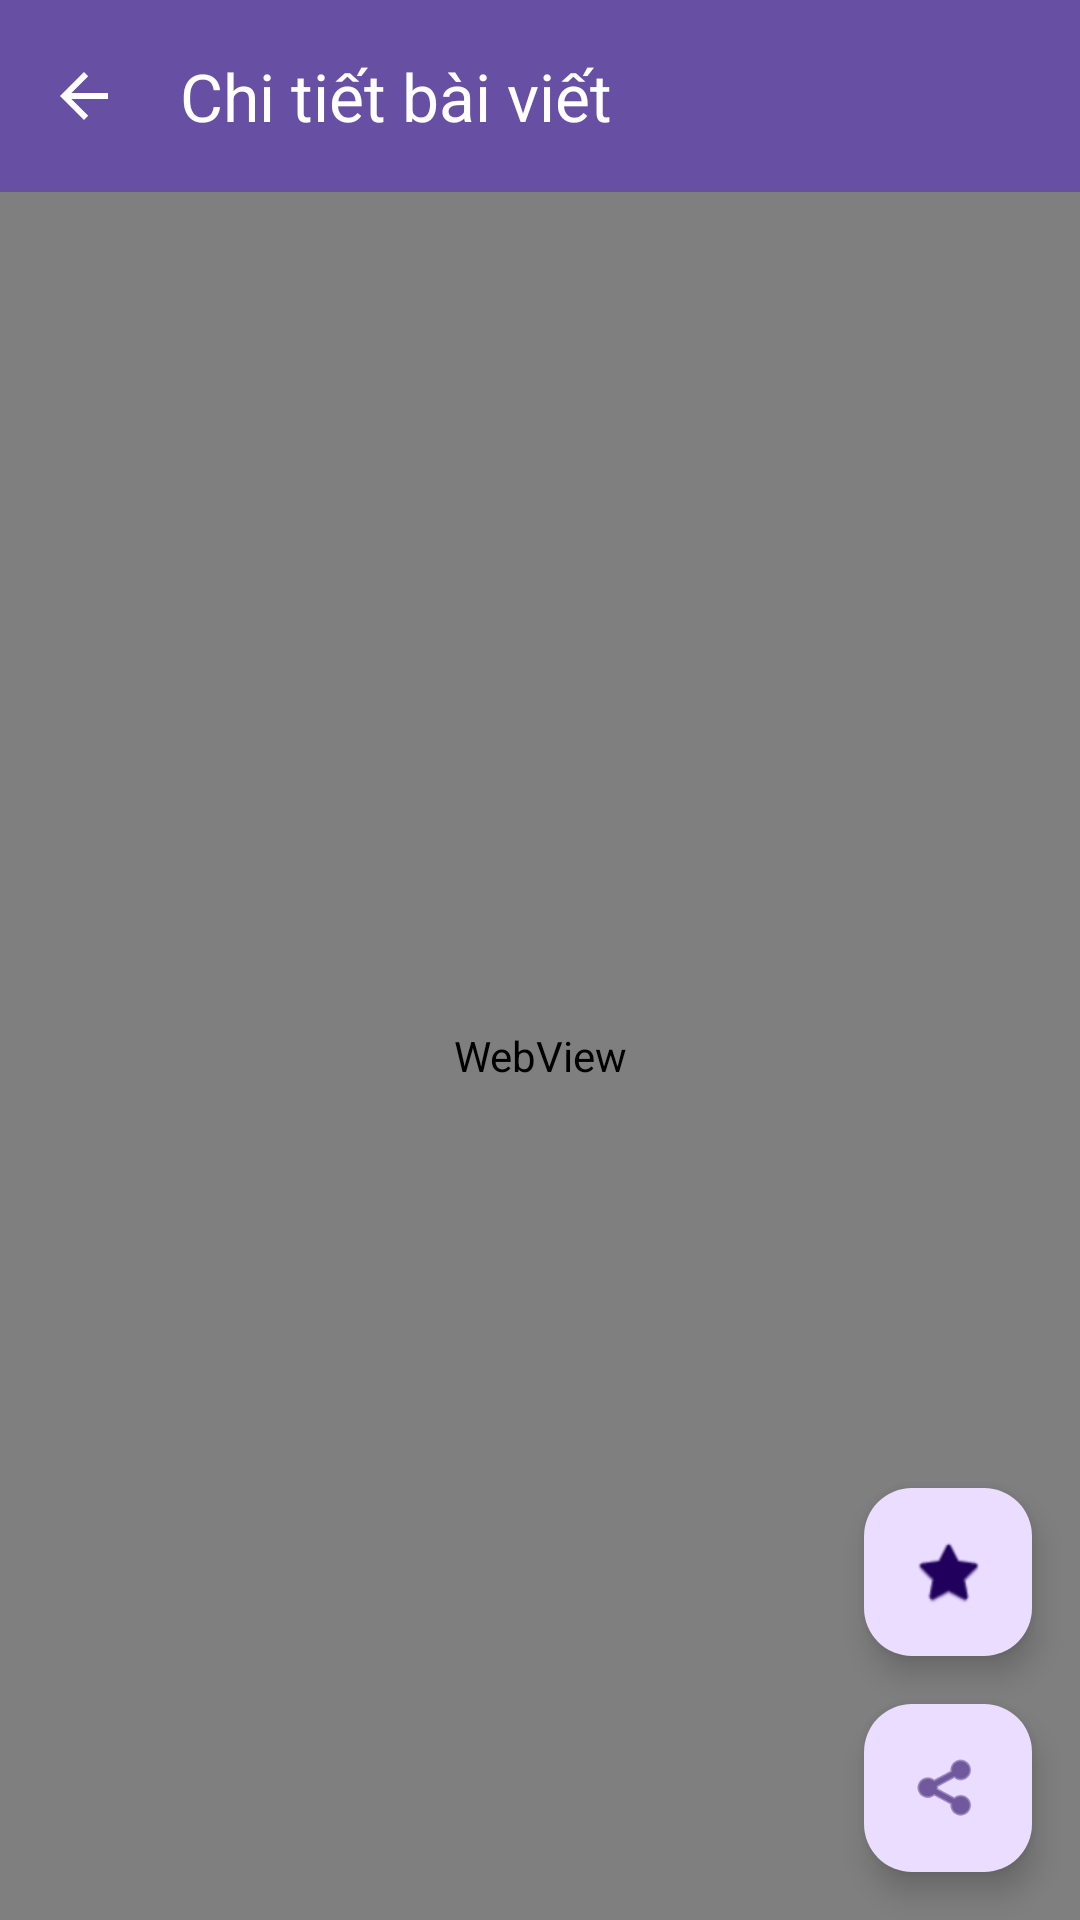

Screen size 1080*1920. Icon name, then its center in pixels as (x,y):
Chia sẻ bài viết: (948,1788)
Save article: (948,1572)
